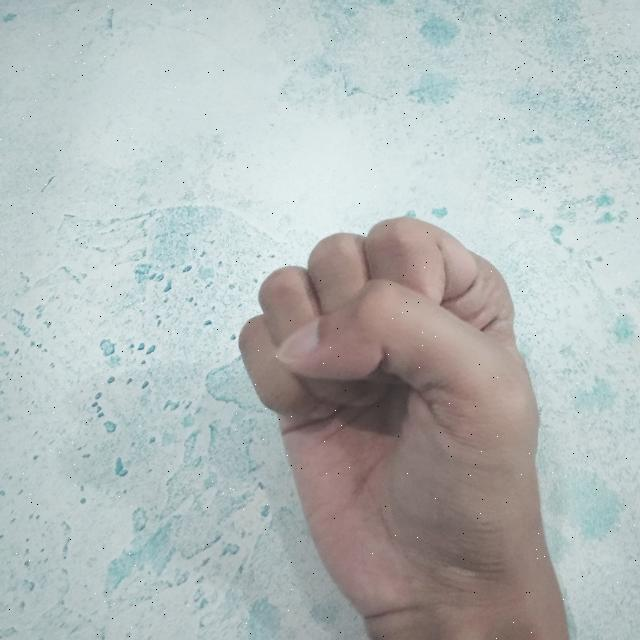S: (230, 208, 572, 640)
